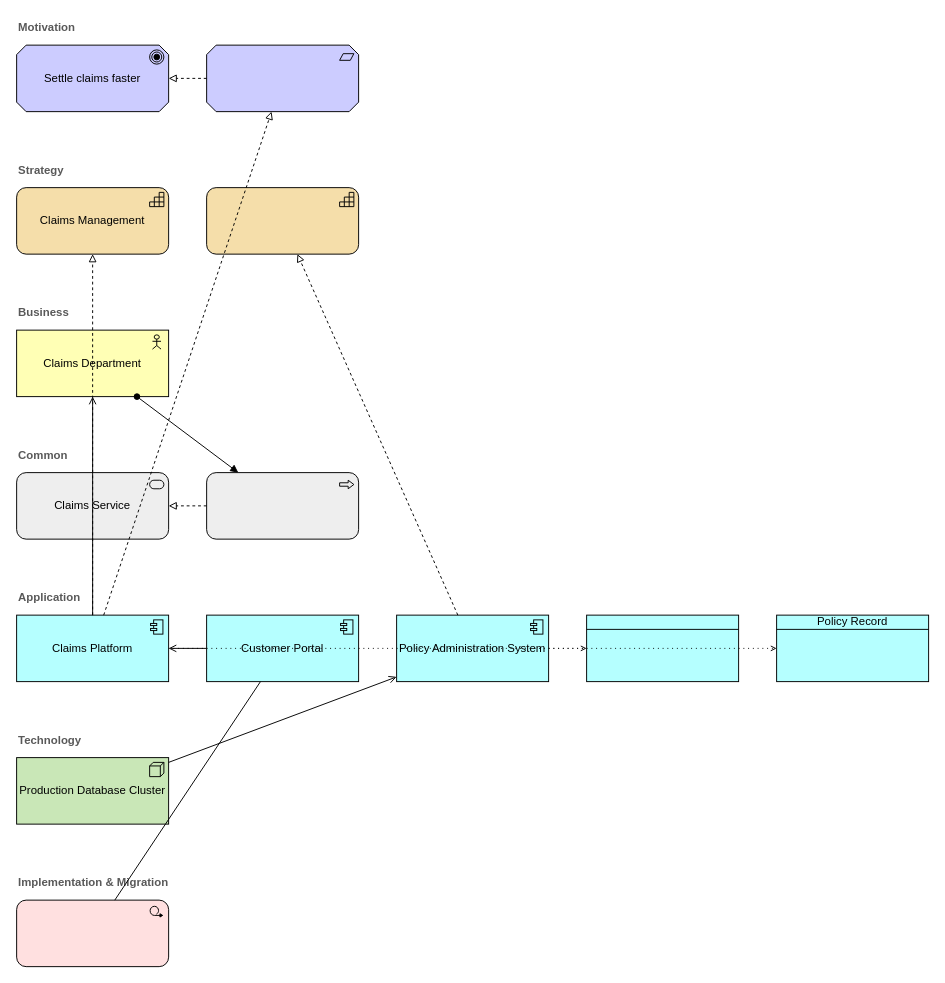
Some shapes in this 945 by 983 pixel diagram are drawn without their labels. Here are the shapes that lost their labels. From the top down, the box of each, then its label:
(206, 44, 359, 112): Digital first notification of loss
(206, 187, 359, 254): Policy Management
(206, 472, 359, 539): Register Claim
(586, 614, 739, 682): Claim Record
(16, 899, 169, 967): Claims Digitisation Programme
